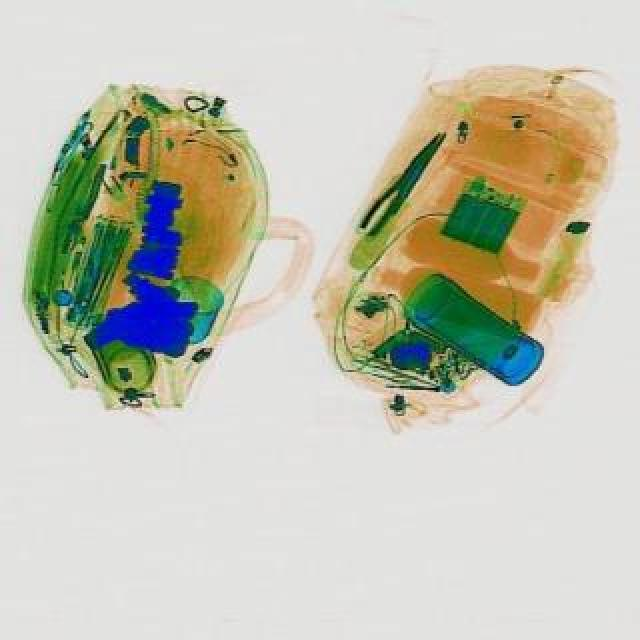wrench: (358, 132, 450, 242)
